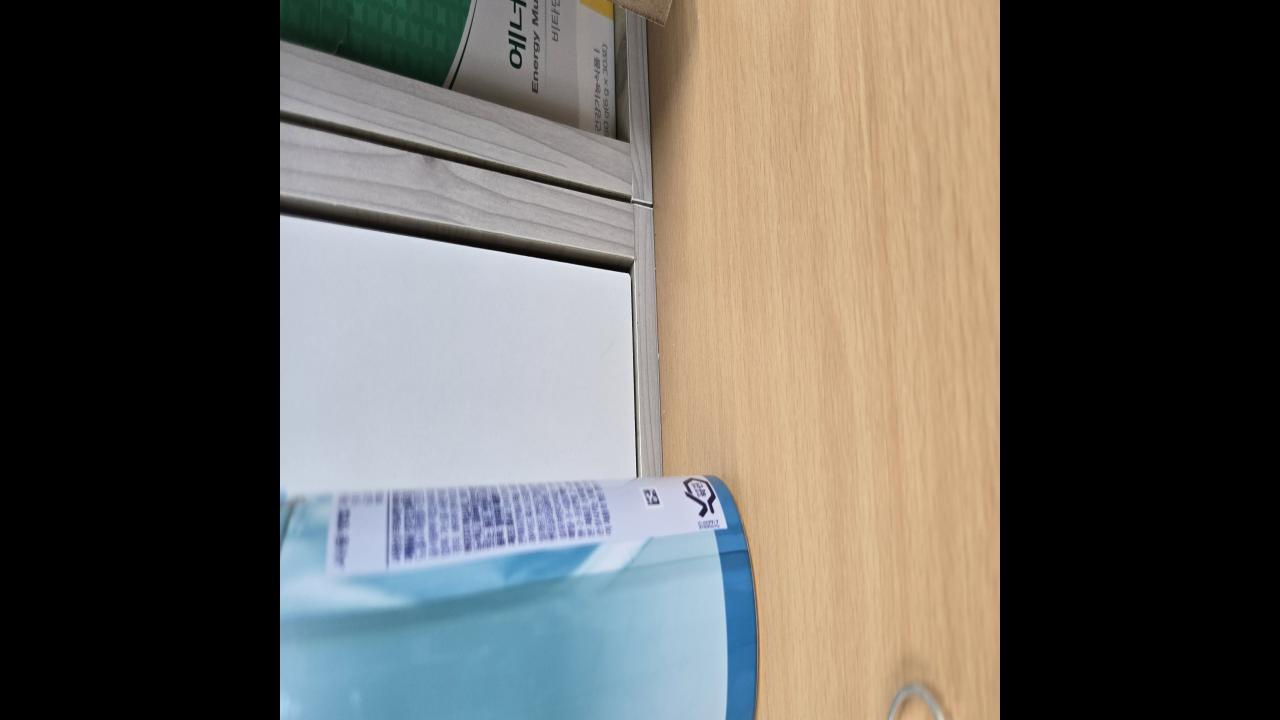ring: (884, 674, 968, 720)
